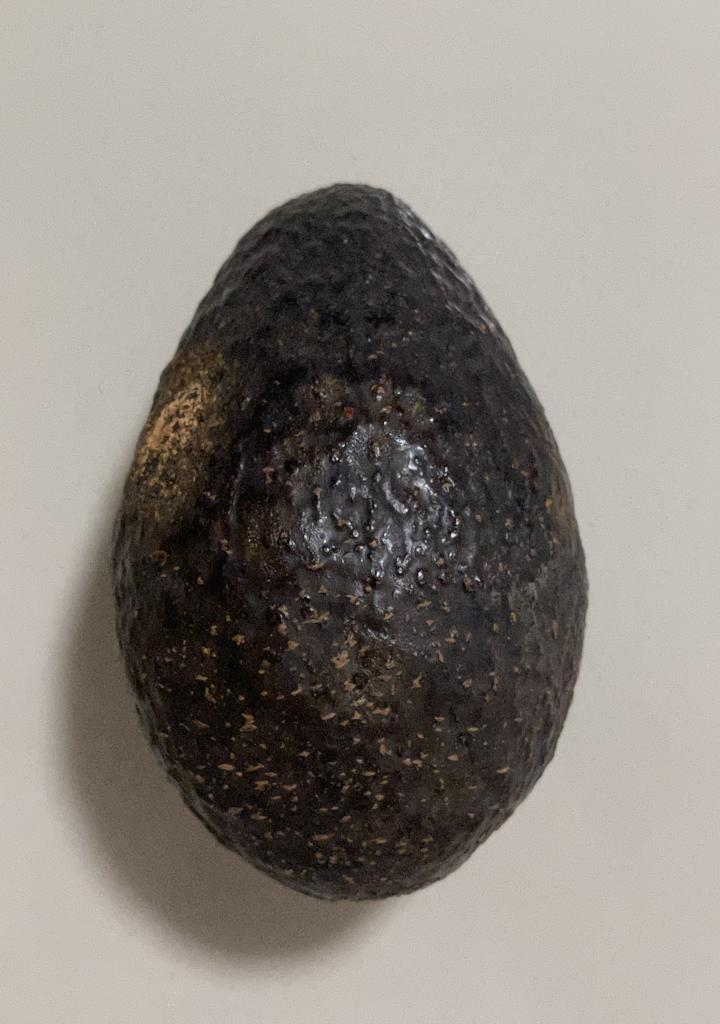Level3: (98, 165, 598, 916)
